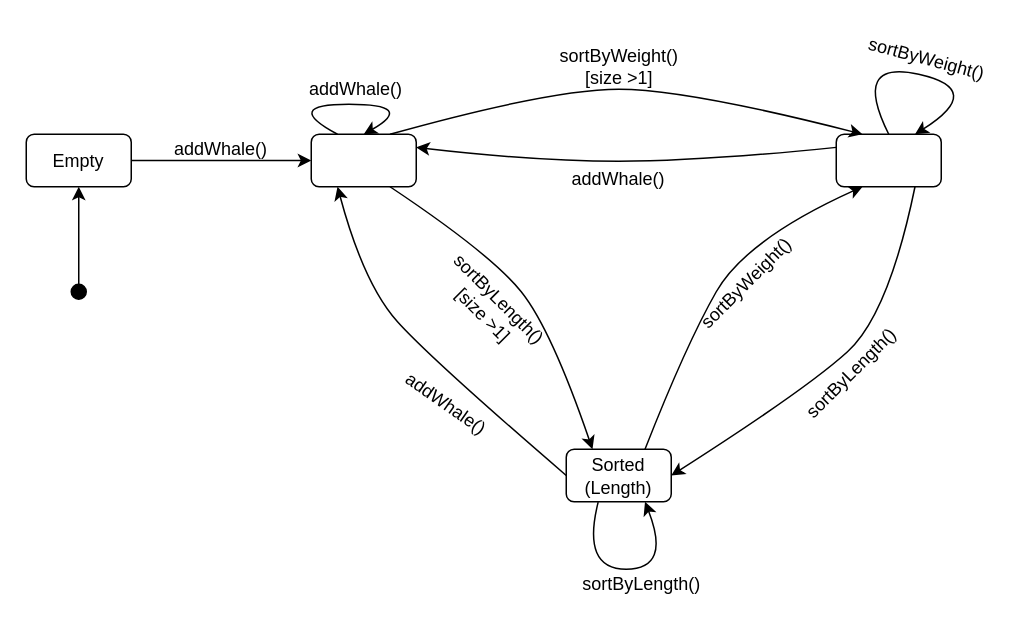
This 1029x626 diagram has some shape labels left out. The shapes that lost their labels are listed below. From the top down, each one's box as (x1, y1, x2, y2) in pixels, then its label:
(310, 133, 416, 187): Unsorted
(835, 133, 941, 187): Sorted (Weight)
